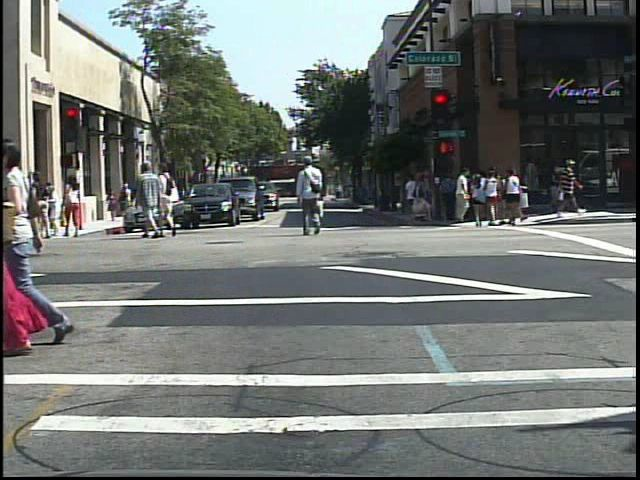person: (2, 130, 92, 350), (0, 129, 36, 364), (297, 153, 331, 242), (134, 156, 168, 243), (552, 154, 585, 219), (30, 167, 57, 244), (64, 169, 88, 240), (161, 160, 181, 239), (469, 172, 488, 231)
